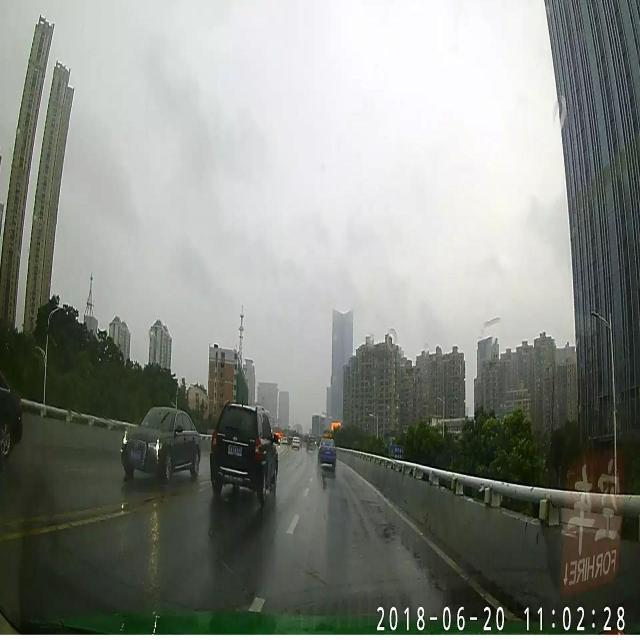car: (209, 396, 279, 504), (119, 405, 201, 487), (0, 368, 22, 456), (318, 433, 339, 469), (306, 435, 316, 452), (292, 435, 300, 451)
